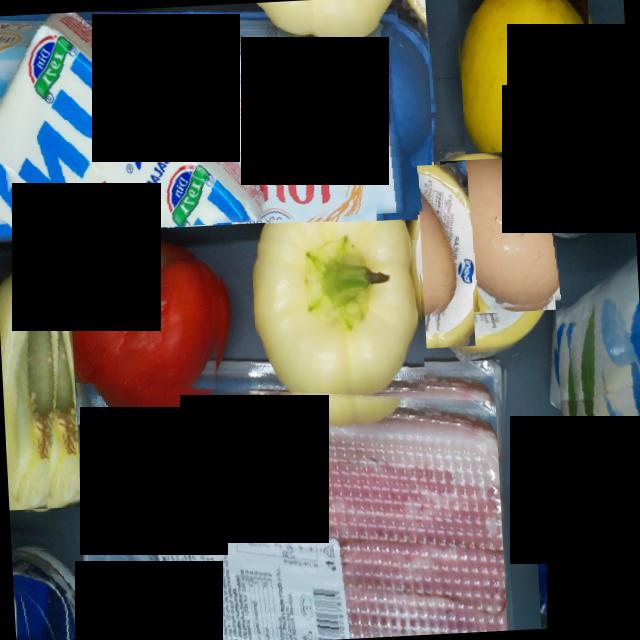avocado: (569, 48, 635, 222)
bacon: (76, 361, 507, 640)
butter: (0, 4, 239, 228)
cheese: (418, 164, 476, 348)
eggs: (0, 0, 436, 237), (440, 156, 564, 316)
lemon: (456, 0, 595, 154)
milk: (552, 225, 640, 491)
pepper: (248, 167, 428, 400), (0, 248, 81, 510)
tomatoes: (68, 230, 232, 425)
yogurt: (533, 474, 640, 628), (11, 545, 80, 640)
